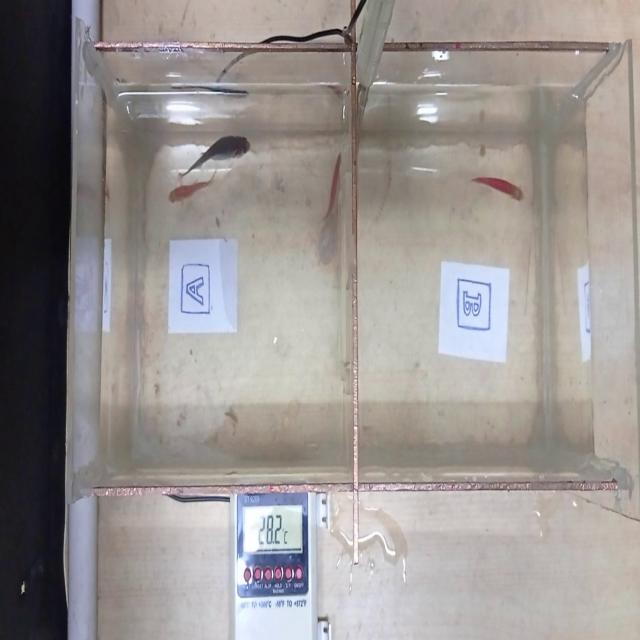Fish A1: (178, 124, 264, 180)
Fish A2: (165, 183, 224, 217)
Fish A3: (322, 142, 352, 226)
Fish B: (459, 142, 539, 228)
